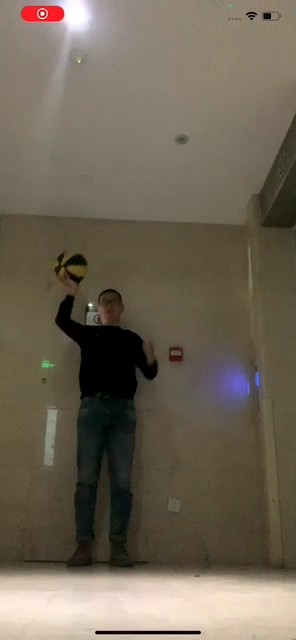ball: (54, 250, 89, 283)
